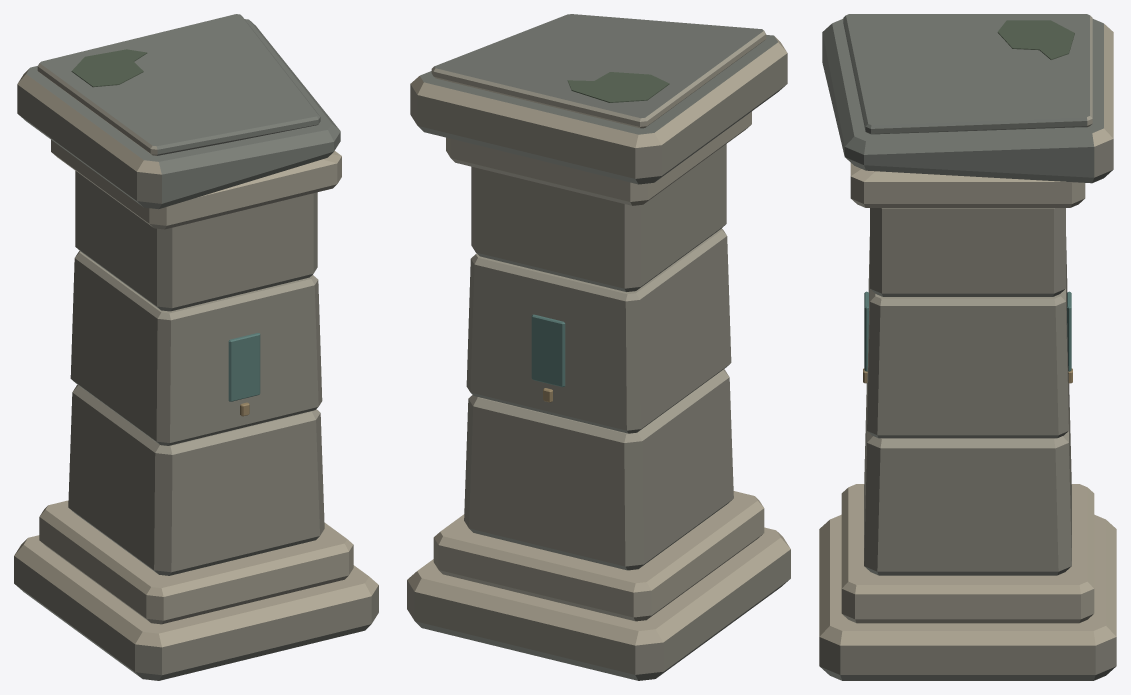
File: pillar-small-chipped.glb
3 renders of one model, left to right at view 1: azimuth 30°, elevation 25°; view 2: azimuth 150°, elevation 25°; view 3: azimuth 270°, elevation 25°, orthographic. The views are drawn at different scales.
Parts seen in each view (by area): view 1: pillar-small-chipped; view 2: pillar-small-chipped; view 3: pillar-small-chipped.
Part boxes in pixels (x1=…): pillar-small-chipped: x1=14, y1=14, x2=378, y2=680; pillar-small-chipped: x1=407, y1=14, x2=790, y2=680; pillar-small-chipped: x1=819, y1=14, x2=1116, y2=680.
Size of the model in its own units: 0.7143 by 1.48 by 0.7143.
